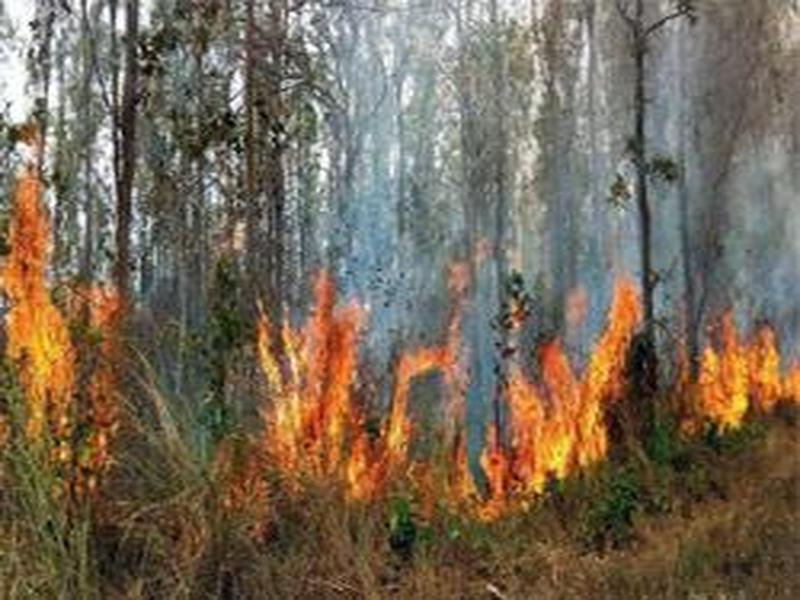FIRE: (15, 202, 794, 522)
